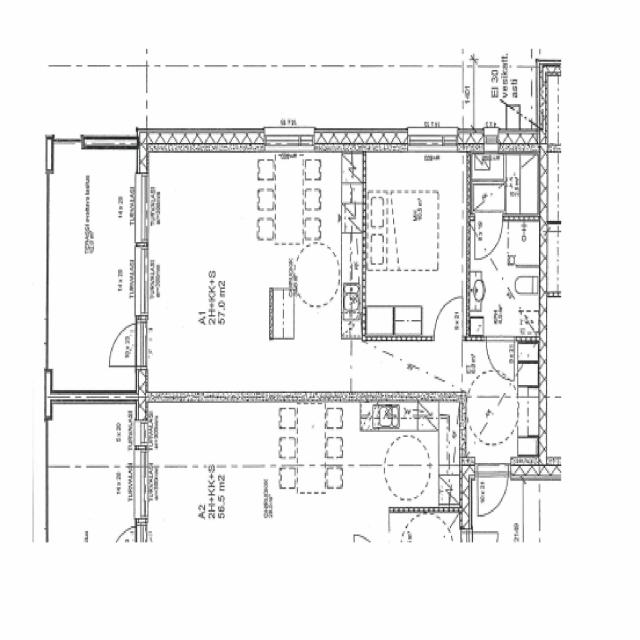door: (477, 462, 509, 524), (104, 323, 148, 366), (474, 213, 502, 259), (434, 296, 463, 340), (486, 336, 514, 381)
